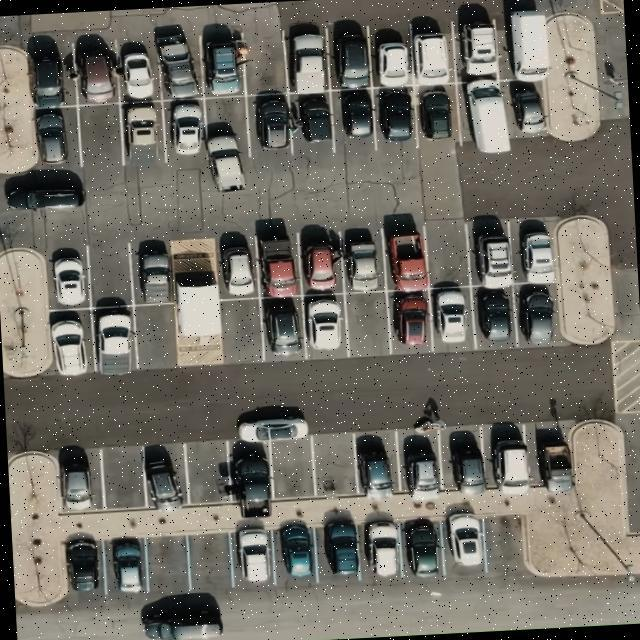space-empty: (310, 432, 360, 500), (424, 218, 471, 288), (86, 240, 134, 308), (481, 515, 532, 579), (241, 27, 288, 96), (98, 446, 146, 512), (79, 104, 124, 174), (344, 292, 391, 356), (186, 529, 232, 594), (218, 298, 264, 362), (134, 303, 180, 367), (188, 439, 230, 509), (145, 534, 190, 596), (269, 436, 311, 502)
space-occupied: (204, 95, 252, 179), (452, 12, 507, 82), (460, 79, 512, 152), (497, 11, 548, 82), (484, 423, 534, 495), (394, 427, 444, 498), (280, 29, 334, 94), (200, 32, 252, 98), (439, 425, 488, 495), (382, 220, 430, 290), (409, 17, 458, 85), (316, 514, 363, 584), (466, 218, 514, 286), (215, 231, 262, 300), (339, 224, 386, 293), (228, 442, 275, 511), (89, 306, 138, 372), (413, 82, 462, 148), (228, 524, 278, 588), (352, 430, 398, 499), (116, 38, 164, 104), (257, 228, 302, 298), (297, 230, 346, 294), (48, 243, 94, 311), (428, 285, 475, 351), (442, 510, 489, 576), (120, 102, 167, 168), (398, 516, 445, 582), (27, 42, 74, 108), (509, 217, 556, 283), (56, 448, 103, 514), (141, 444, 188, 510), (326, 24, 372, 91), (302, 294, 350, 358), (75, 40, 120, 108), (274, 522, 320, 588), (354, 521, 402, 584), (386, 290, 433, 354), (246, 94, 294, 156), (526, 424, 574, 486), (49, 310, 94, 375), (374, 86, 417, 154), (513, 284, 560, 346), (260, 296, 306, 359), (102, 536, 150, 596), (156, 40, 204, 100), (130, 242, 177, 303), (162, 100, 208, 162), (471, 287, 516, 350), (506, 80, 552, 141), (330, 88, 373, 152), (369, 26, 413, 88), (34, 106, 78, 167), (290, 92, 333, 153), (61, 538, 106, 596)
